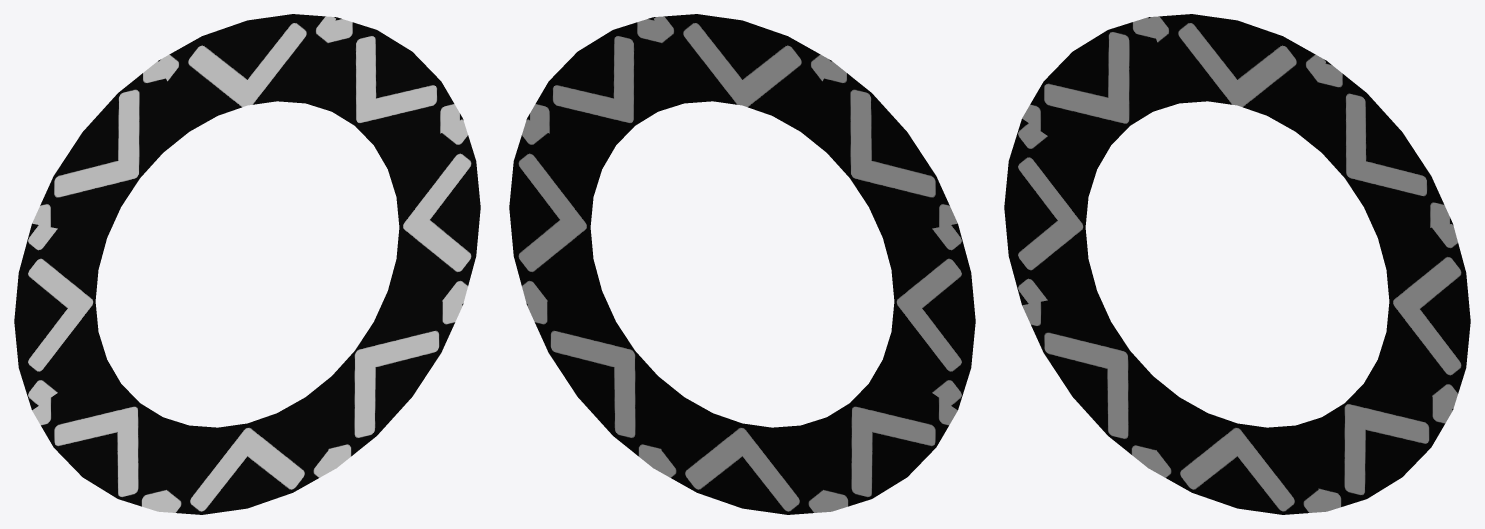
File: InwardsFacingArrowCylinder.fbx
3 renders of one model, left to right at view 1: azimuth 30°, elevation 25°; view 2: azimuth 150°, elevation 25°; view 3: azimuth 330°, elevation 25°, orthographic.
Parts seen in each view (by area): view 1: Cylinder; view 2: Cylinder; view 3: Cylinder.
Boxes of the visible parts, x1,y1,x2,y2 form: Cylinder: (14, 14, 480, 514); Cylinder: (509, 14, 975, 514); Cylinder: (1004, 14, 1470, 514).
Size of the model in its own units: 200 by 200 by 1.51e-05.
